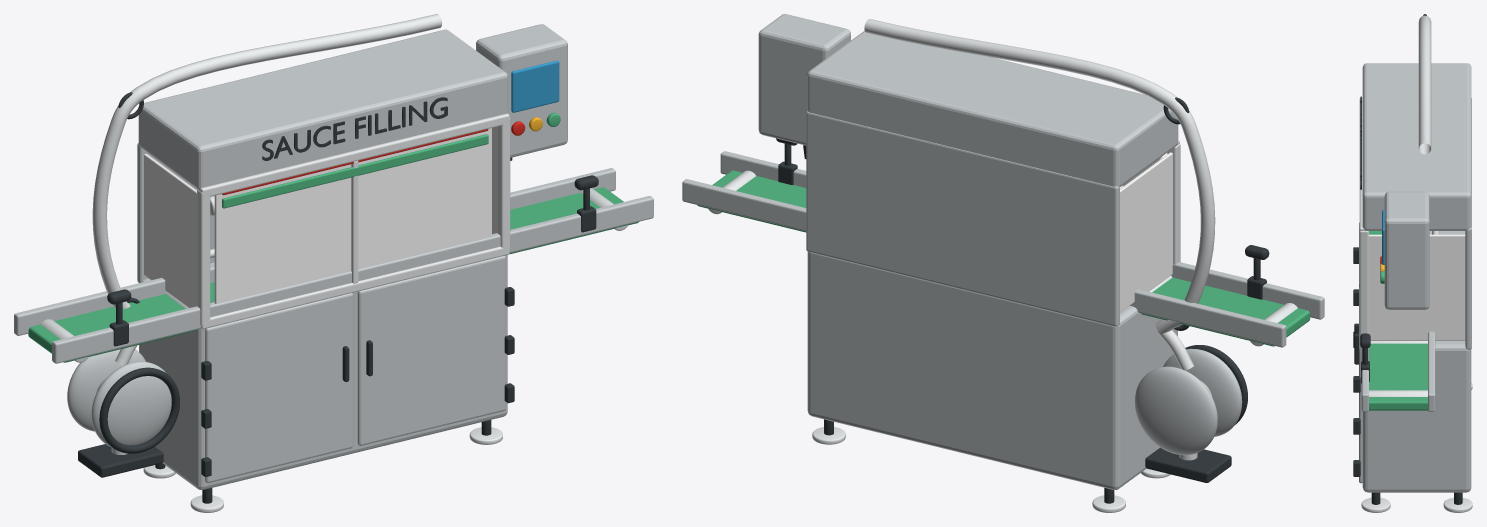
Rendered from sauce-filling-machine.glb.
3 views of the same model, side by side, from view 1: azimuth 30°, elevation 25°; view 2: azimuth 150°, elevation 25°; view 3: azimuth 270°, elevation 25° (orthographic). The views are drawn at different scales.
Parts seen in each view (by area): view 1: Top Fascia, Front Safety Glass, Lower Right Door, Lower Left Door, Conveyor Front Rail, Lower Cabinet Body, Sanitary Supply Loop, Left Safety Glass, Control Box, Conveyor Belt, Pump Left Diaphragm, Conveyor Rear Rail (+12 smaller); view 2: Lower Cabinet Body, Upper Back Panel, Top Fascia, Sanitary Supply Loop, Control Box, Conveyor Rear Rail, Left Safety Glass, Pump Right Diaphragm, Conveyor Belt, Conveyor Front Rail, Pump Left Diaphragm, Pump Mount (+2 smaller); view 3: Top Fascia, Lower Cabinet Body, Right Safety Glass, Control Box, Conveyor Belt, Sanitary Supply Loop, Upper Frame Right, Upper Back Panel, Conveyor Rear Rail, Lower Right Door, Upper Frame Top, Conveyor Roller 5 (+8 smaller).
Part boxes in pixels (bbox=[...]): Top Fascia: bbox=[138, 29, 508, 189]; Front Safety Glass: bbox=[214, 128, 491, 303]; Lower Right Door: bbox=[357, 256, 505, 445]; Lower Left Door: bbox=[205, 293, 353, 482]; Conveyor Front Rail: bbox=[52, 196, 653, 363]; Lower Cabinet Body: bbox=[139, 255, 507, 489]; Sanitary Supply Loop: bbox=[92, 14, 442, 309]; Left Safety Glass: bbox=[144, 153, 196, 307]; Control Box: bbox=[476, 24, 567, 157]; Conveyor Belt: bbox=[28, 187, 638, 362]; Pump Left Diaphragm: bbox=[91, 361, 171, 447]; Conveyor Rear Rail: bbox=[14, 168, 615, 335]; Lower Cabinet Body: bbox=[807, 251, 1177, 489]; Upper Back Panel: bbox=[806, 111, 1119, 326]; Top Fascia: bbox=[807, 31, 1178, 186]; Sanitary Supply Loop: bbox=[864, 19, 1215, 333]; Control Box: bbox=[758, 14, 850, 145]; Conveyor Rear Rail: bbox=[682, 179, 1286, 347]; Left Safety Glass: bbox=[1120, 152, 1172, 312]; Pump Right Diaphragm: bbox=[1134, 366, 1217, 455]; Conveyor Belt: bbox=[697, 170, 1310, 346]; Conveyor Front Rail: bbox=[720, 151, 1324, 319]; Pump Left Diaphragm: bbox=[1163, 348, 1242, 436]; Pump Mount: bbox=[1145, 447, 1231, 482]; Top Fascia: bbox=[1362, 63, 1471, 230]; Lower Cabinet Body: bbox=[1362, 231, 1471, 492]; Right Safety Glass: bbox=[1368, 234, 1465, 340]; Control Box: bbox=[1384, 191, 1429, 309]; Conveyor Belt: bbox=[1369, 231, 1427, 410]; Sanitary Supply Loop: bbox=[1418, 15, 1431, 154]; Upper Frame Right: bbox=[1359, 231, 1368, 347]; Upper Back Panel: bbox=[1465, 98, 1471, 349]; Conveyor Rear Rail: bbox=[1428, 231, 1435, 411]; Lower Right Door: bbox=[1359, 287, 1362, 483]; Upper Frame Top: bbox=[1359, 97, 1366, 230]; Conveyor Roller 5: bbox=[1369, 390, 1427, 396].
Bounding box in the file's own units: 9.1 × 6.09 × 1.81.
